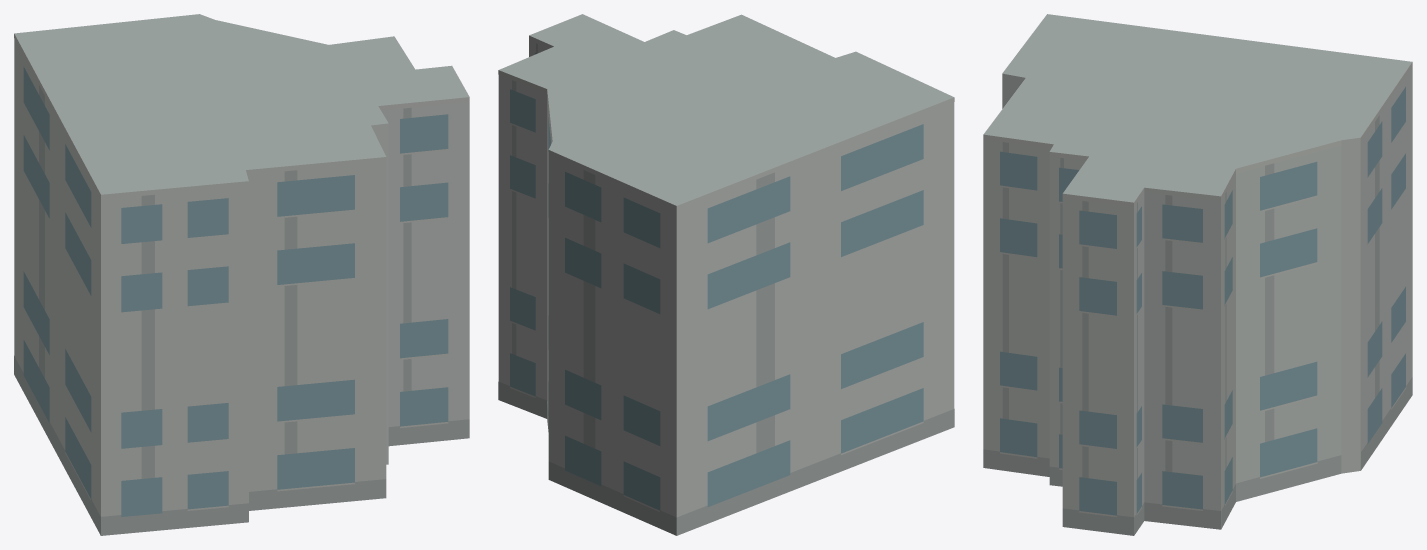
The model's file is survey-upis-32497879.glb.
The picture shows the model from 3 angles, left to right: view 1: azimuth 30°, elevation 25°; view 2: azimuth 150°, elevation 25°; view 3: azimuth 270°, elevation 25°; orthographic projection. The views are drawn at different scales.
Visible parts, largest first — view 1: survey-upis-32497879.tmp; view 2: survey-upis-32497879.tmp; view 3: survey-upis-32497879.tmp.
Boxes of the visible parts, x1=… form: survey-upis-32497879.tmp: x1=14, y1=14, x2=469, y2=535; survey-upis-32497879.tmp: x1=498, y1=14, x2=954, y2=535; survey-upis-32497879.tmp: x1=983, y1=14, x2=1412, y2=535.
Size of the model in its own units: 20.52 by 16.9 by 19.73.
